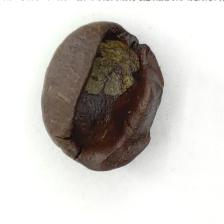NG: (67, 25, 145, 156)
